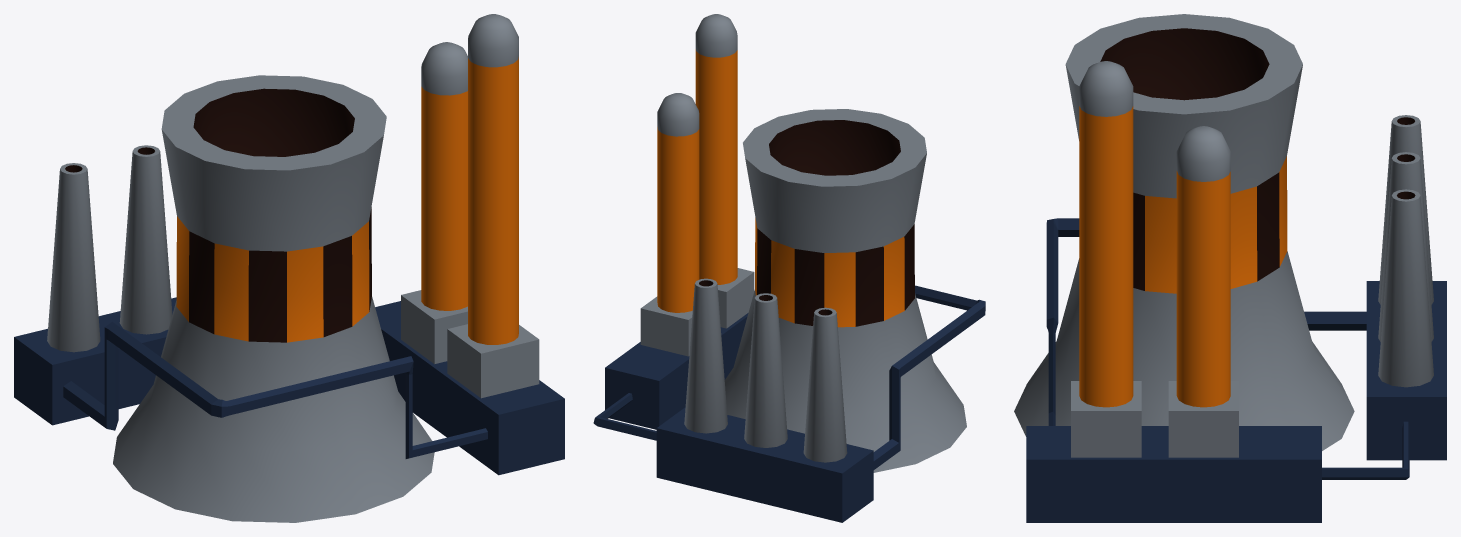
File: 2025-01-29-Boswell-RescaledNuclearPlant-v009.fbx
3 views of the same model, side by side, from view 1: azimuth 30°, elevation 25°; view 2: azimuth 150°, elevation 25°; view 3: azimuth 270°, elevation 25° (orthographic). The views are drawn at different scales.
Visible parts, largest first — view 1: Cylinder, Cube.001, Cube.002, Cube.004, Elbow Joint.001, Cube.003, Cylinder.001, Cylinder.002; view 2: Cylinder, Cube.003, Cube.001, Cube.002, Cube.004, Cylinder.002, Cylinder.001, Cylinder.003, Elbow Joint.001, Elbow Joint; view 3: Cylinder, Cube.004, Cube.001, Cube.002, Cube.003, Cylinder.003, Elbow Joint.001, Cylinder.002, Cylinder.001, Elbow Joint.
Boxes of the visible parts, left/top/right/bottom form: Cylinder: left=113, top=75, right=434, bottom=522; Cube.001: left=447, top=14, right=539, bottom=398; Cube.002: left=401, top=42, right=467, bottom=364; Cube.004: left=375, top=301, right=564, bottom=475; Elbow Joint.001: left=63, top=321, right=487, bottom=458; Cube.003: left=14, top=297, right=176, bottom=425; Cylinder.001: left=47, top=163, right=100, bottom=352; Cylinder.002: left=119, top=145, right=172, bottom=334; Cylinder: left=724, top=109, right=966, bottom=472; Cube.003: left=656, top=407, right=873, bottom=522; Cube.001: left=695, top=14, right=754, bottom=328; Cube.002: left=640, top=93, right=699, bottom=356; Cube.004: left=605, top=313, right=748, bottom=429; Cylinder.002: left=744, top=293, right=787, bottom=447; Cylinder.001: left=803, top=307, right=847, bottom=462; Cylinder.003: left=684, top=278, right=727, bottom=433; Elbow Joint.001: left=873, top=285, right=985, bottom=469; Elbow Joint: left=593, top=393, right=656, bottom=440; Cylinder: left=1014, top=14, right=1354, bottom=450; Cube.004: left=1026, top=426, right=1321, bottom=522; Cube.001: left=1071, top=61, right=1141, bottom=457; Cube.002: left=1168, top=126, right=1238, bottom=457; Cube.003: left=1366, top=281, right=1446, bottom=460; Cylinder.003: left=1378, top=189, right=1433, bottom=387; Elbow Joint.001: left=1046, top=218, right=1366, bottom=425; Cylinder.002: left=1378, top=152, right=1433, bottom=341; Cylinder.001: left=1378, top=115, right=1433, bottom=304; Elbow Joint: left=1322, top=421, right=1409, bottom=479.
Bounding box in the file's own units: 397 × 449 × 399.
